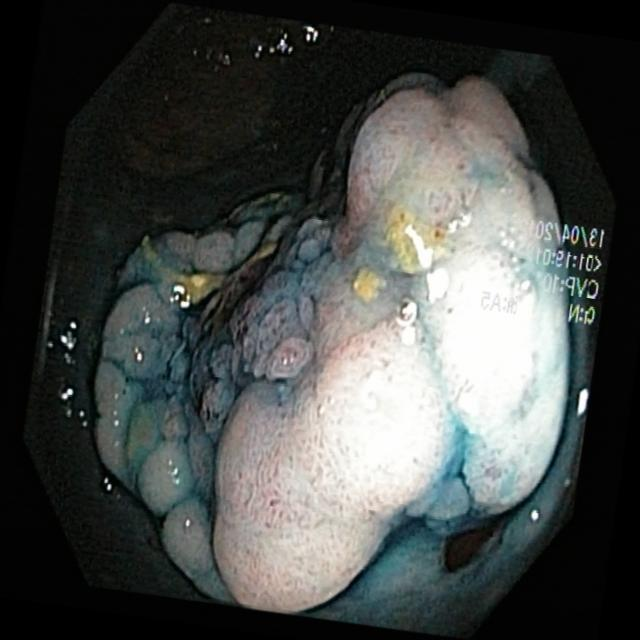dyed-lifted-polyps: (82, 57, 576, 618)
